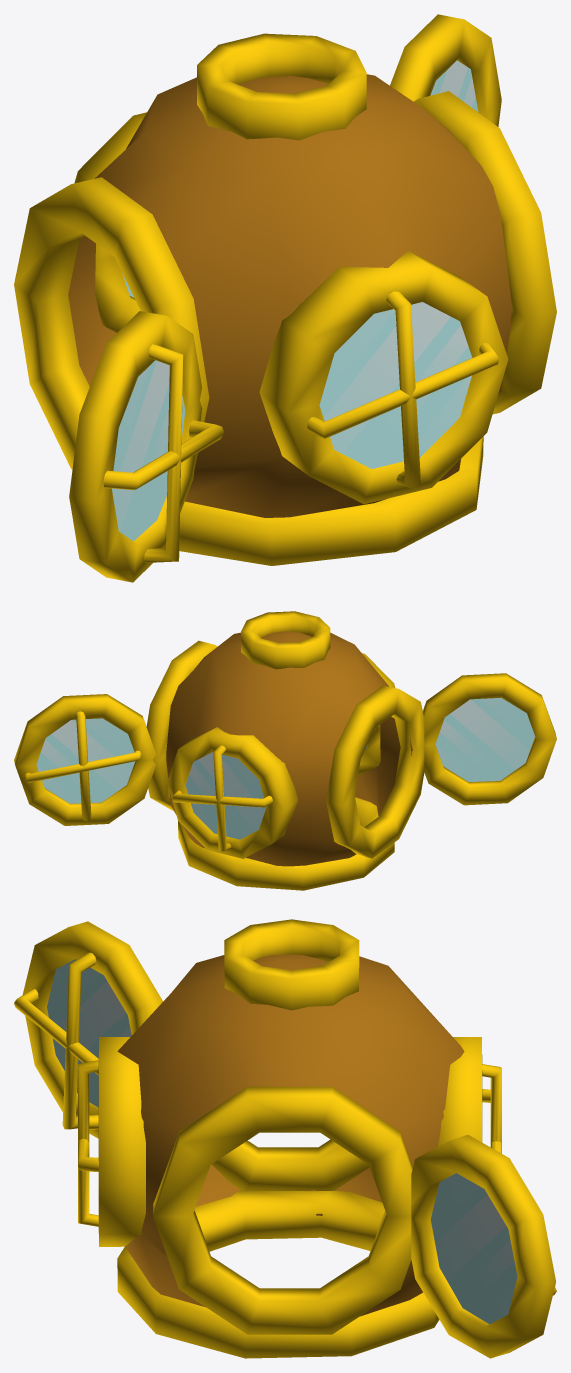
File: HelmetDiver.FBX
3 views of the same model, one above another, from view 1: azimuth 30°, elevation 25°; view 2: azimuth 150°, elevation 25°; view 3: azimuth 270°, elevation 25° (orthographic). The views are drawn at different scales.
Visible parts, largest first — view 1: HelmetDiver; view 2: HelmetDiver; view 3: HelmetDiver.
Boxes of the visible parts, left/top/right/bottom form: HelmetDiver: left=14, top=14, right=556, bottom=582; HelmetDiver: left=14, top=611, right=556, bottom=890; HelmetDiver: left=14, top=919, right=556, bottom=1358.
Size of the model in its own units: 367 by 196 by 285.
